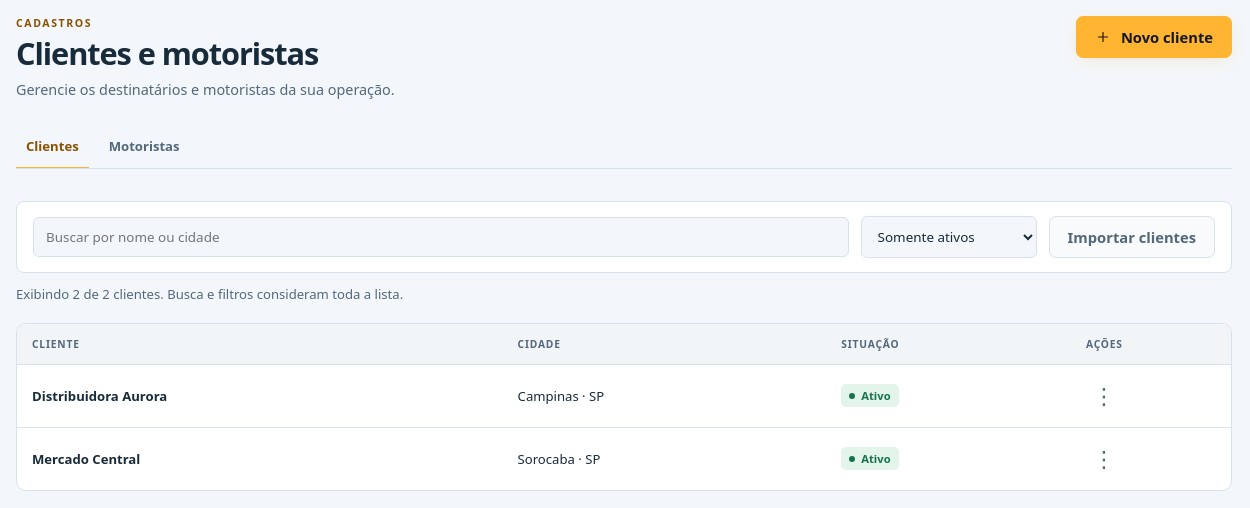
Test case: ContactsPage › busca cliente por cidade consultando o servidor
Expected: the text "Distribuidora Aurora" is shown, [32,387,167,405]
Type "sorocaba" into the search field named "Buscar cliente por nome ou cidade".
click(441, 237); type("sorocaba")  # box [33,217,849,257]
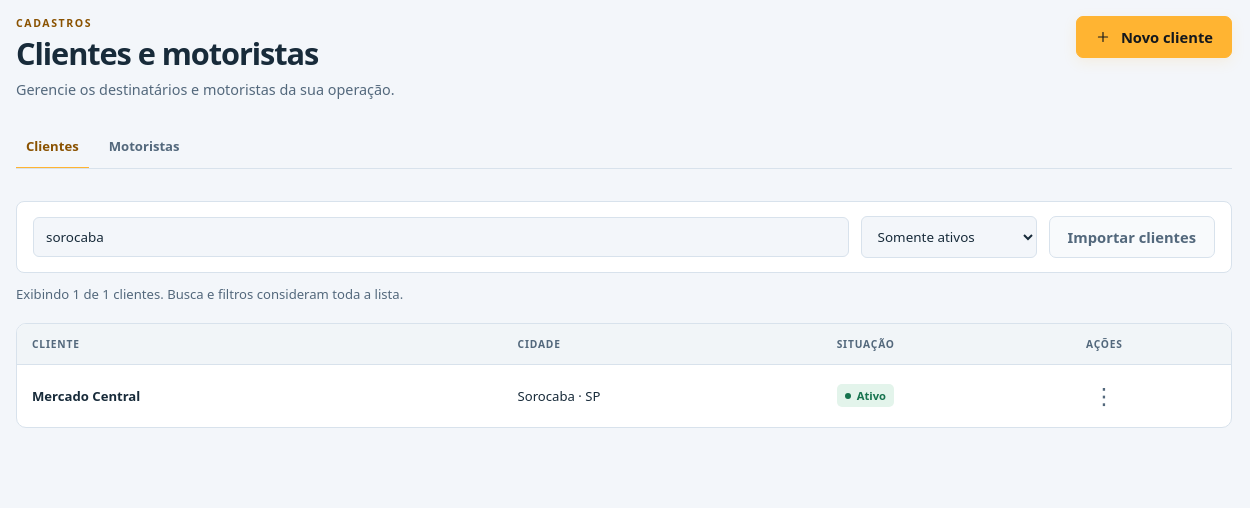
Expected: the text "Mercado Central" is shown, [32,387,140,405]
Now the text "Distribuidora Aurora" is gone
